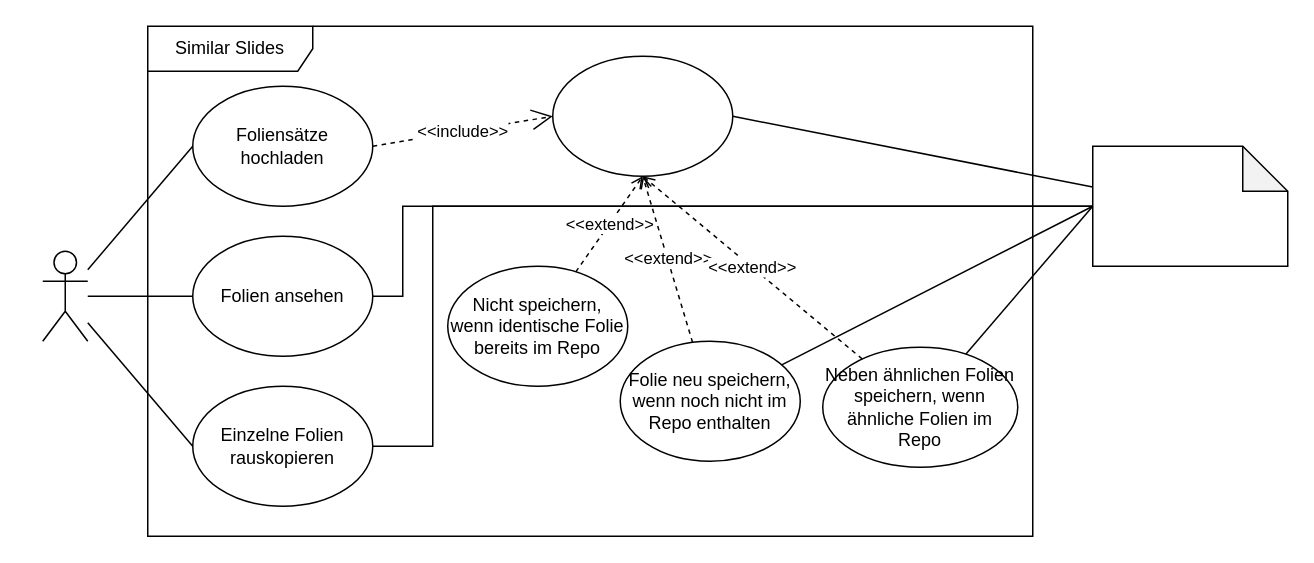
Some shapes in this 1314 by 563 pixel diagram are drawn without their labels. Here are the shapes that lost their labels. From the top down, the centre of each, then its label:
At point (642, 115): "Ähnlichkeitsmaß vergleicht die Folien mit Folien des Repositories".
At point (1189, 205): "Repository".
At point (64, 295): "Dozent*in".
